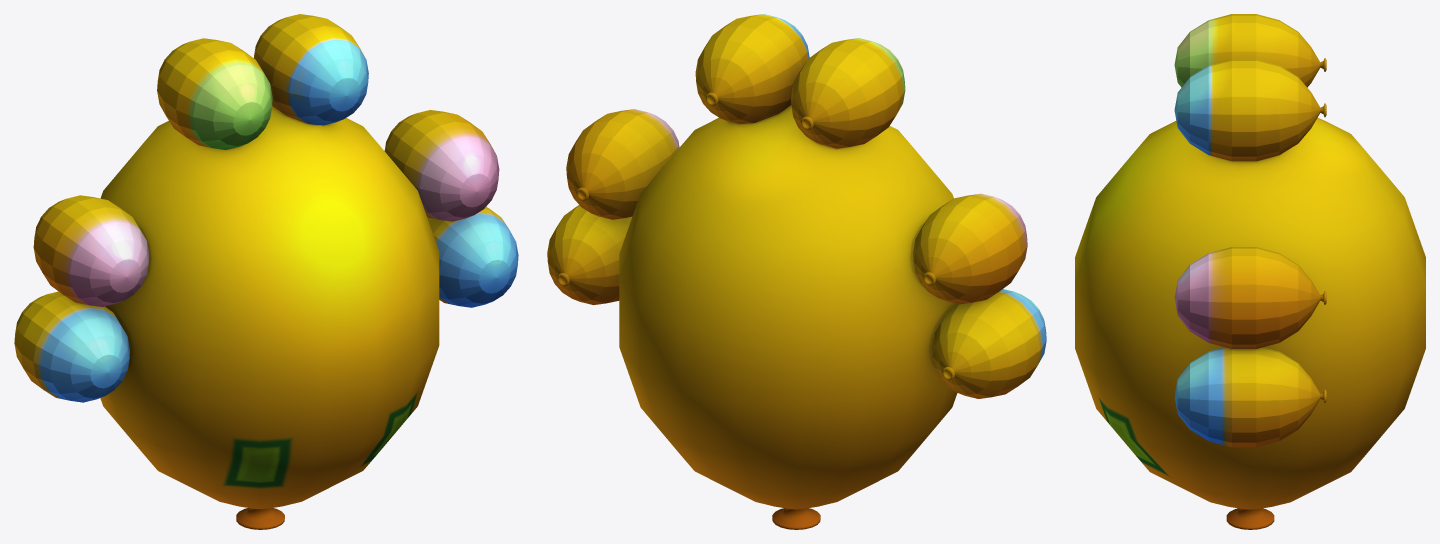
The model's file is DoñaFlorinda_Globos.FBX.
The picture shows the model from 3 angles, left to right: view 1: azimuth 30°, elevation 25°; view 2: azimuth 150°, elevation 25°; view 3: azimuth 270°, elevation 25°; orthographic projection.
Visible parts, largest first — view 1: GloboChavo_Low001, DoñaFlorinda4_Chico, DoñaFlorinda5_Chico, DoñaFlorinda6_Chico, DoñaFlorinda3_Chico, DoñaFlorinda2_Chico, DoñaFlorinda_Chico; view 2: GloboChavo_Low001, DoñaFlorinda5_Chico, DoñaFlorinda4_Chico, DoñaFlorinda6_Chico, DoñaFlorinda3_Chico, DoñaFlorinda2_Chico, DoñaFlorinda_Chico; view 3: GloboChavo_Low001, DoñaFlorinda3_Chico, DoñaFlorinda2_Chico, DoñaFlorinda_Chico, DoñaFlorinda4_Chico.
Boxes of the visible parts, <box> form: GloboChavo_Low001: <box>100,106,439,529</box>; DoñaFlorinda4_Chico: <box>157,38,272,149</box>; DoñaFlorinda5_Chico: <box>33,195,149,306</box>; DoñaFlorinda6_Chico: <box>14,291,129,402</box>; DoñaFlorinda3_Chico: <box>254,14,368,125</box>; DoñaFlorinda2_Chico: <box>384,110,499,221</box>; DoñaFlorinda_Chico: <box>427,206,518,307</box>; GloboChavo_Low001: <box>619,105,957,529</box>; DoñaFlorinda5_Chico: <box>913,193,1027,304</box>; DoñaFlorinda4_Chico: <box>791,38,905,148</box>; DoñaFlorinda6_Chico: <box>932,289,1046,398</box>; DoñaFlorinda3_Chico: <box>695,14,809,123</box>; DoñaFlorinda2_Chico: <box>566,109,679,219</box>; DoñaFlorinda_Chico: <box>547,205,632,304</box>; GloboChavo_Low001: <box>1075,118,1425,529</box>; DoñaFlorinda3_Chico: <box>1174,59,1326,161</box>; DoñaFlorinda2_Chico: <box>1174,247,1326,348</box>; DoñaFlorinda_Chico: <box>1174,347,1326,447</box>; DoñaFlorinda4_Chico: <box>1174,14,1326,87</box>.
Bounding box in the file's own units: 10.35 × 10.12 × 6.7.
